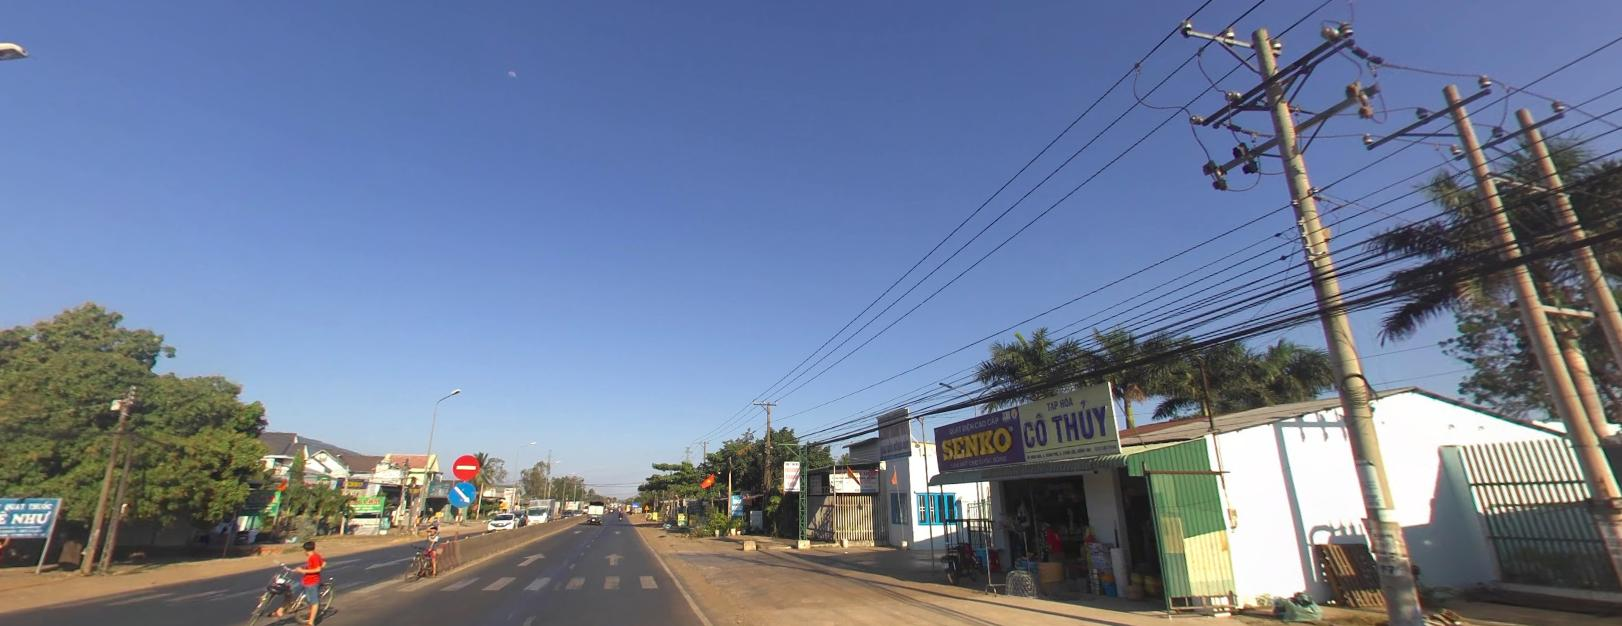Cam nguoc chieu: (452, 452, 479, 479)
Hieu lenh: (449, 479, 476, 506)
Nguy hiem: (643, 503, 649, 509)
